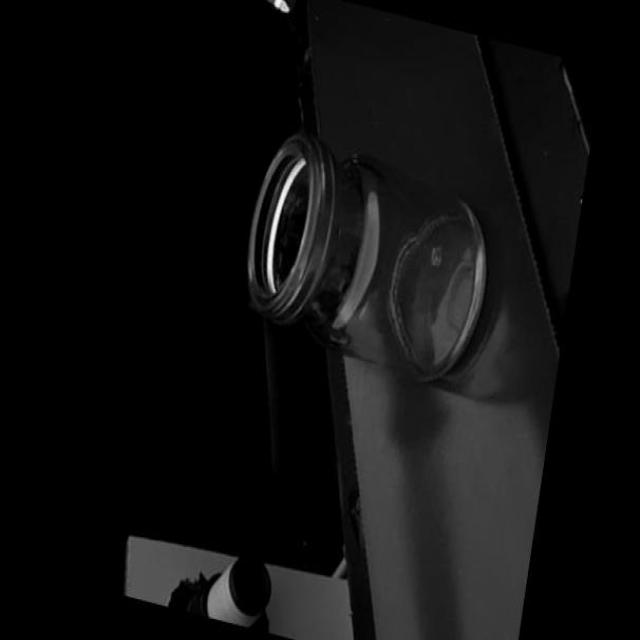glass: (226, 116, 507, 394)
